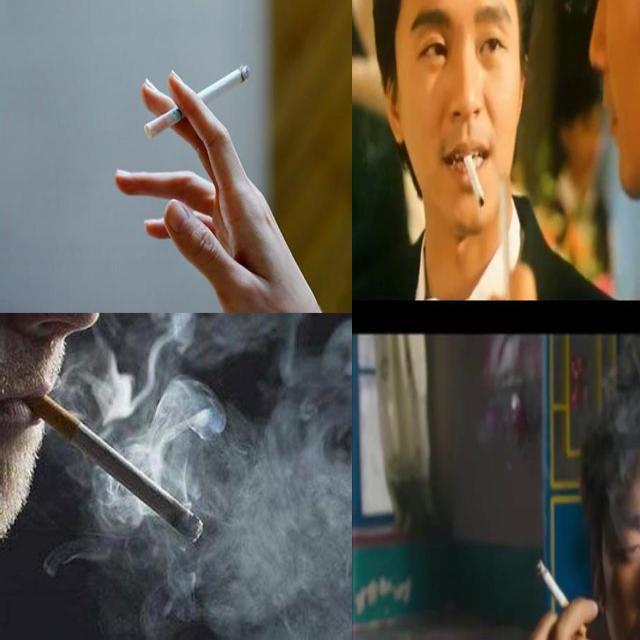smoking: (29, 390, 207, 546), (142, 62, 252, 140), (532, 553, 596, 639), (462, 154, 486, 210)
